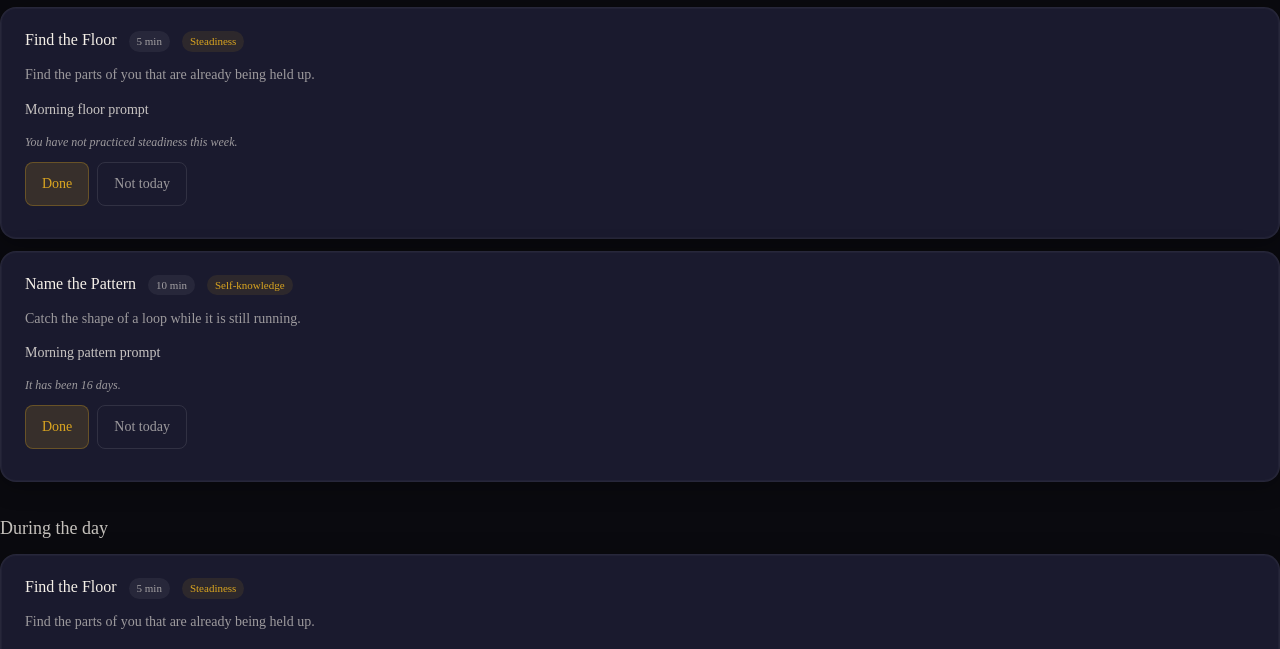
it: DailyProtocol follow-ups › saves both prompts against the one completion
The image size is (1280, 649).
Click the button "Done" below "Morning floor prompt" at (57, 184), box [25,162,89,206]
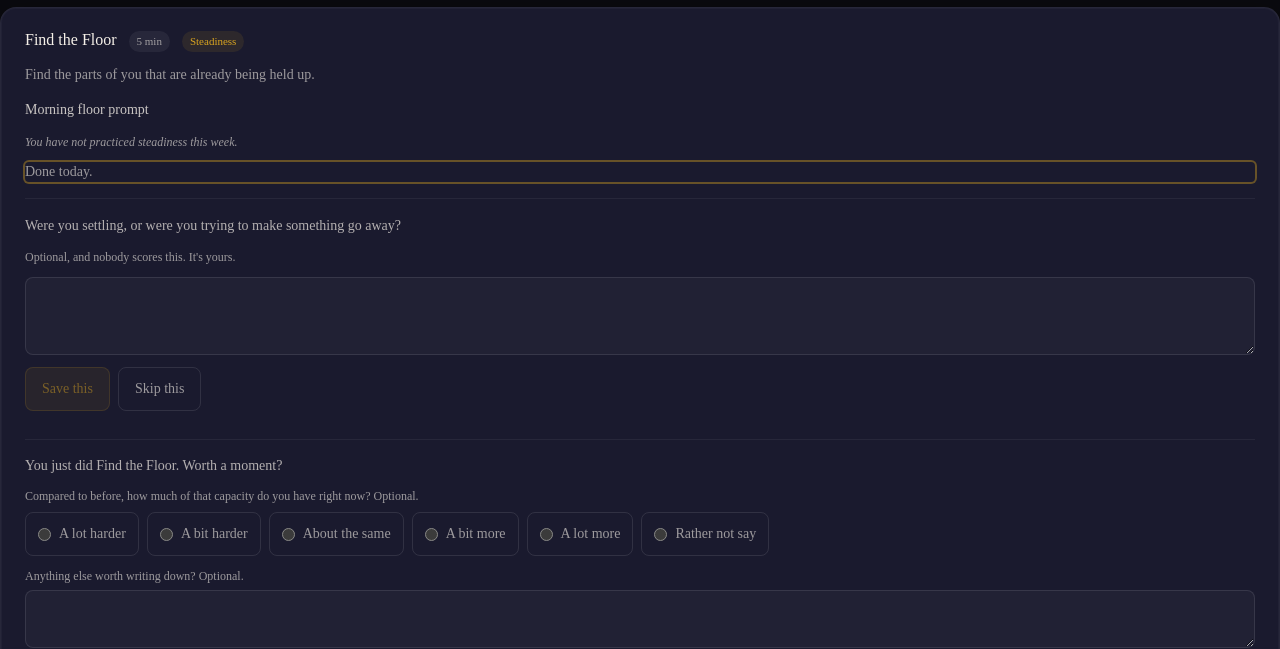
Check: the button "Save this" is shown, box [25,367,110,411]
Type "Settling, mostly." into the text box labelled "Were you settling, or were you trying to make something go away?" at (640, 316), box [25,277,1255,355]
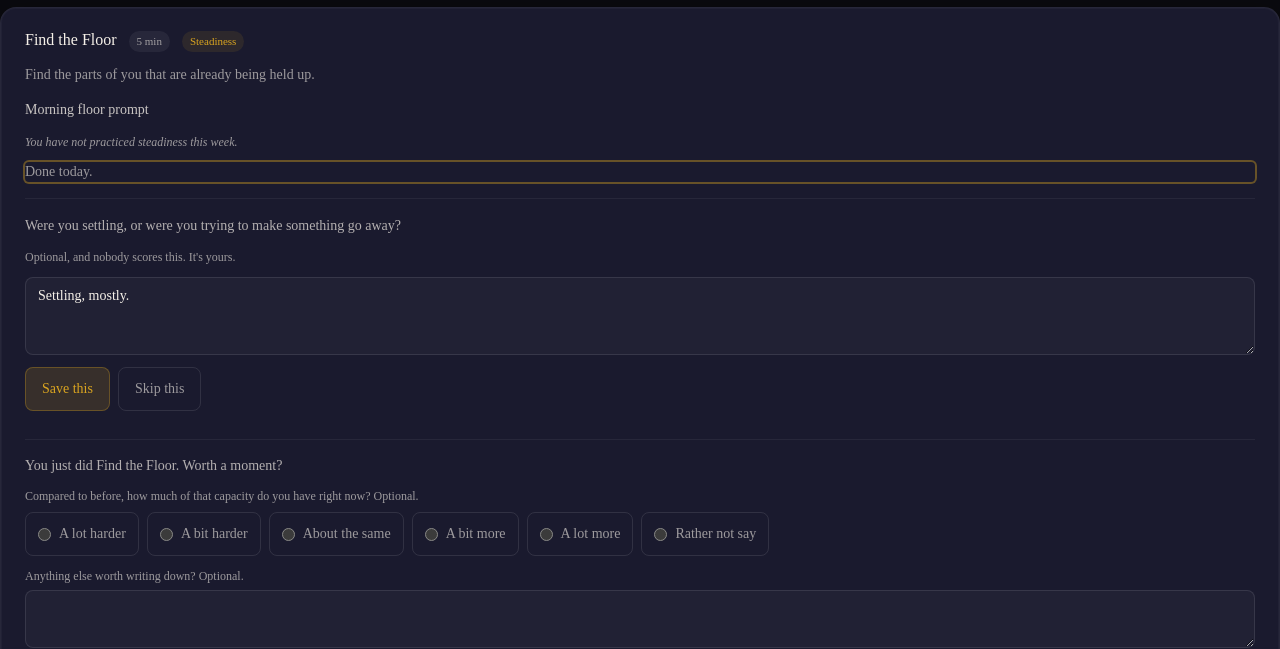
Click the button "Save this" at (68, 389), box [25,367,110,411]
(page scrolled)
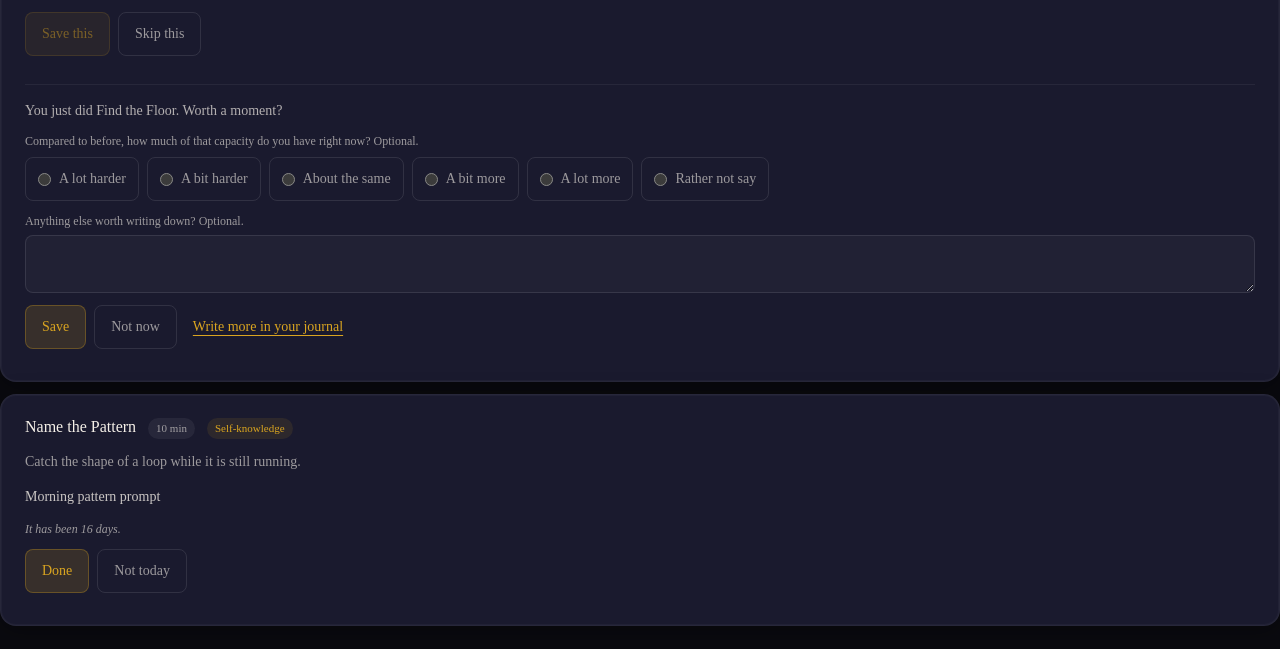
Click the button "Save" at (56, 327), box [25,305,86,349]
(page scrolled)
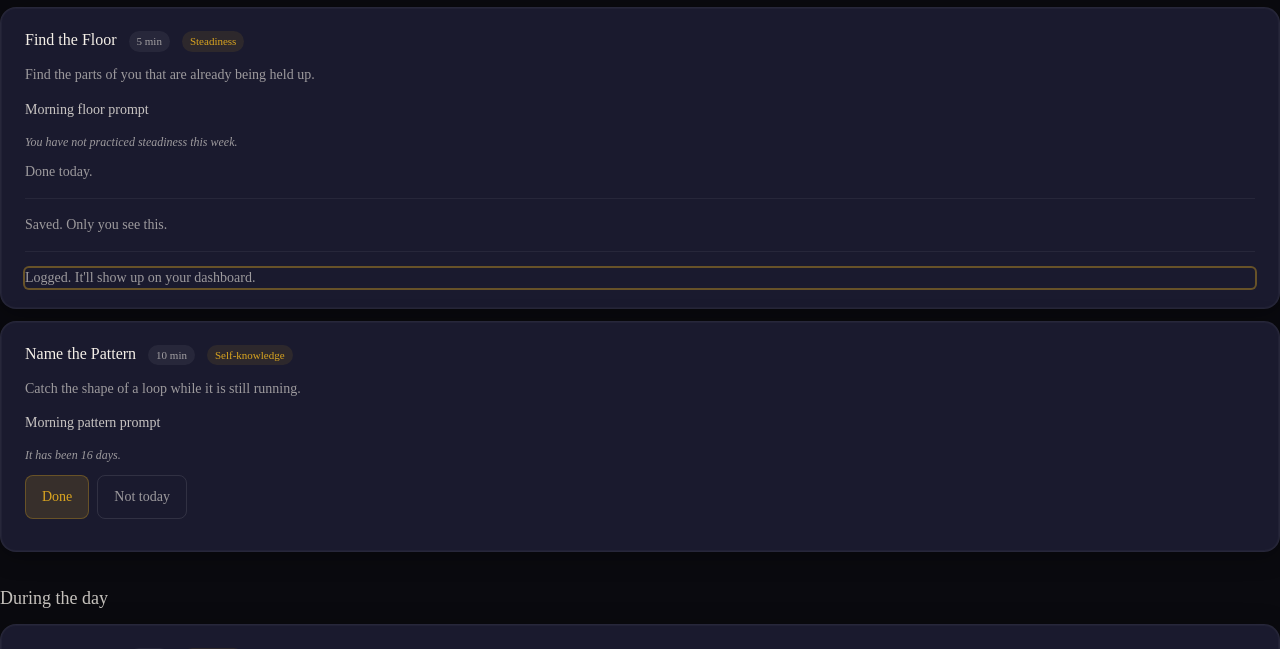
Check: the text "Saved. Only you see this." is shown, box [25,216,167,232]
Check: the text "Logged. It'll show up on your dashboard." is shown, box [25,268,1255,288]
